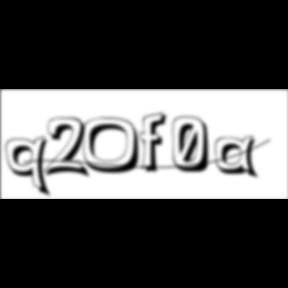0: (172, 115, 218, 174)
2: (44, 117, 94, 181)
O: (83, 117, 148, 176)
a: (215, 135, 263, 182)
f: (140, 111, 173, 175)
q: (6, 135, 54, 200)
